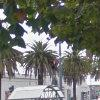Palm tree: (26, 40, 86, 91)
